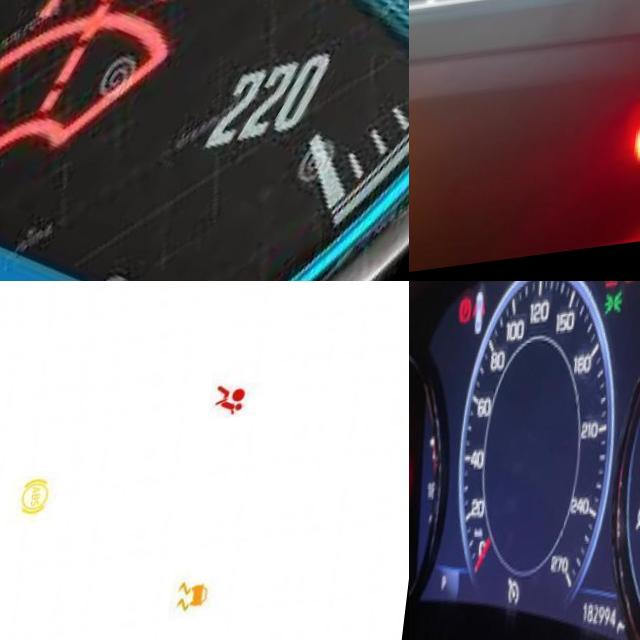High Engine Coolant Temperature: (606, 281, 625, 300)
Washer Fluid: (0, 0, 188, 163)
